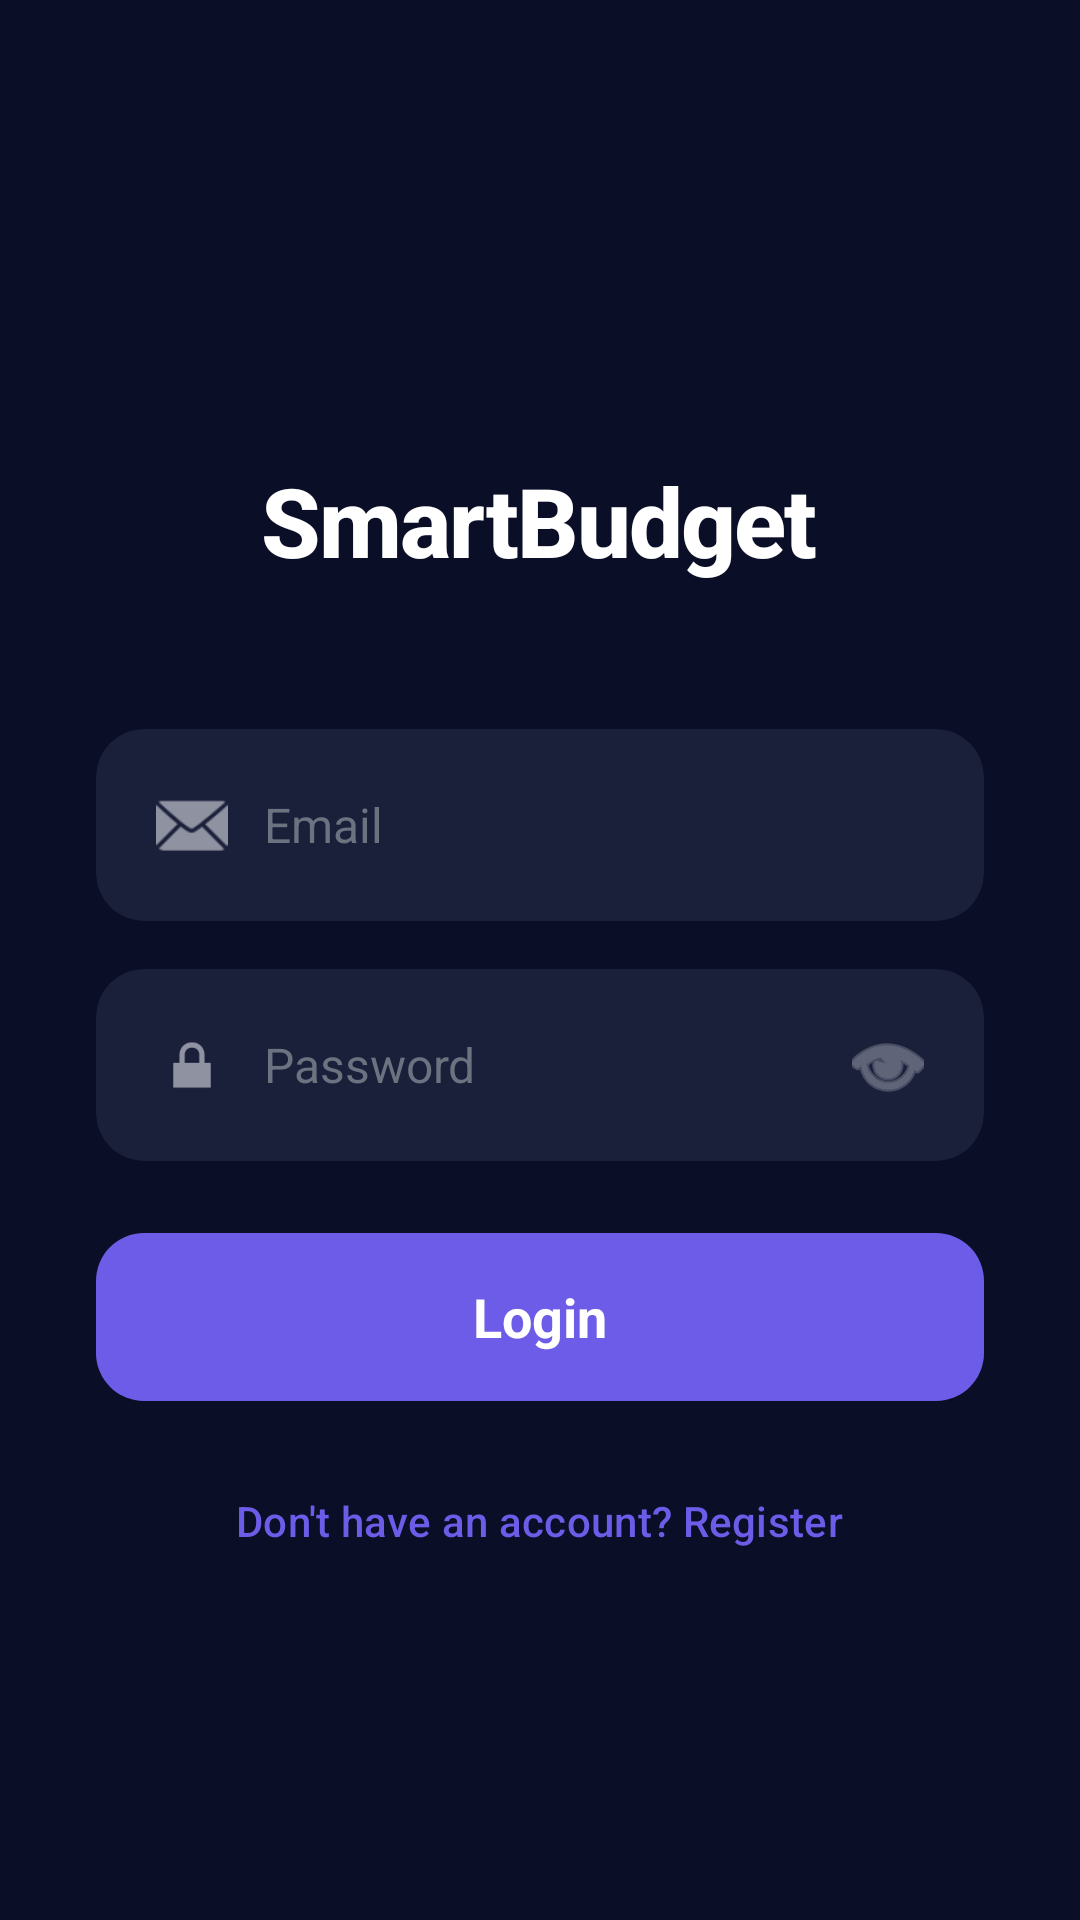

Icons on this 1080px×1920px Android screen, each with the point to tap as (x=x, y=y):
lock: (x=192, y=1065)
